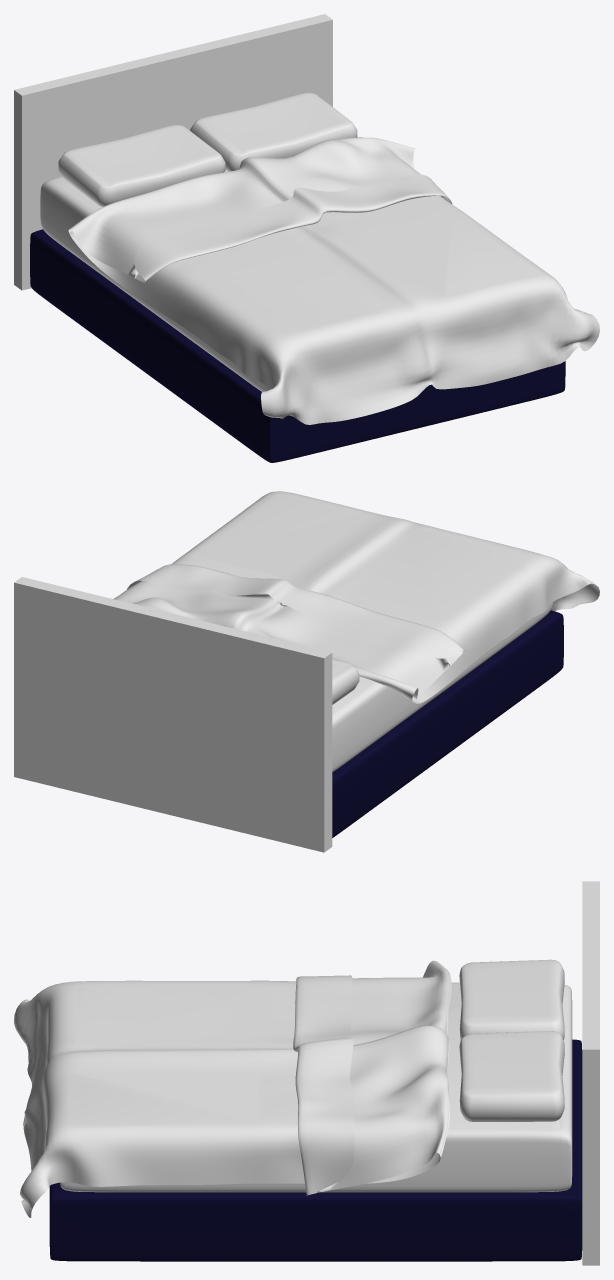
File: yatak.fbx
3 views of the same model, one above another, from view 1: azimuth 30°, elevation 25°; view 2: azimuth 150°, elevation 25°; view 3: azimuth 270°, elevation 25° (orthographic). The views are drawn at different scales.
Visible parts, largest first — view 1: Plane.030, Cube.001, y2, Cube.002, Cube.016, y1; view 2: Cube.001, Plane.030, y2, y1, Cube.002; view 3: Plane.030, y2, y1, Cube.016, Cube.002, Cube.001.
Boxes of the visible parts, bbox=[...] form: Plane.030: bbox=[68, 137, 599, 424]; Cube.001: bbox=[14, 14, 332, 290]; y2: bbox=[30, 229, 565, 462]; Cube.002: bbox=[58, 125, 225, 206]; Cube.016: bbox=[190, 92, 357, 171]; y1: bbox=[40, 137, 357, 391]; Cube.001: bbox=[14, 577, 332, 852]; Plane.030: bbox=[113, 491, 599, 703]; y2: bbox=[332, 610, 563, 837]; y1: bbox=[332, 602, 553, 772]; Cube.002: bbox=[332, 659, 359, 704]; Plane.030: bbox=[14, 960, 451, 1217]; y2: bbox=[49, 1039, 582, 1261]; y1: bbox=[60, 982, 572, 1192]; Cube.016: bbox=[459, 1031, 564, 1121]; Cube.002: bbox=[459, 959, 564, 1040]; Cube.001: bbox=[582, 881, 599, 1265].
Bounding box in the file's own units: 375 × 202 × 492.
